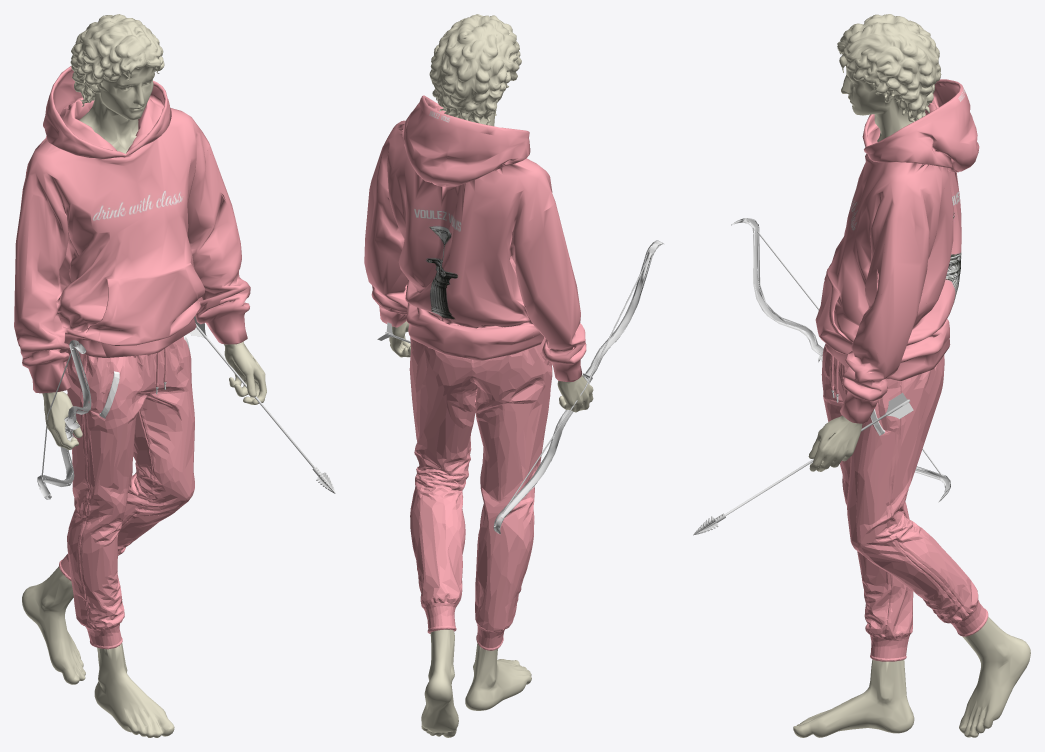
Rendered from light-pink-hoodie.glb.
3 renders of one model, left to right at view 1: azimuth 30°, elevation 25°; view 2: azimuth 150°, elevation 25°; view 3: azimuth 270°, elevation 25°, orthographic. The views are drawn at different scales.
Parts seen in each view (by area): view 1: Hoodie, Trouser, Body, Bow, Arrow; view 2: Trouser, Hoodie.001, Hoodie, Body, Bow; view 3: Hoodie, Trouser, Body, Hoodie.001, Bow, Arrow.
Part boxes in pixels (x1,y1,x2,y2): Hoodie: [14, 66, 250, 393]; Trouser: [59, 336, 194, 649]; Body: [22, 14, 266, 737]; Bow: [37, 340, 91, 499]; Arrow: [189, 316, 335, 493]; Trouser: [409, 337, 552, 650]; Hoodie.001: [369, 144, 544, 360]; Hoodie: [364, 95, 586, 381]; Body: [389, 14, 593, 737]; Bow: [493, 240, 663, 534]; Hoodie: [815, 79, 979, 423]; Trouser: [821, 344, 988, 661]; Body: [793, 14, 1030, 737]; Hoodie.001: [911, 168, 961, 375]; Bow: [731, 218, 950, 502]; Arrow: [693, 393, 913, 535].
Bounding box in the file's own units: 0.6163 × 1.71 × 0.7278.
Materials: 8 (6 with a texture image).
